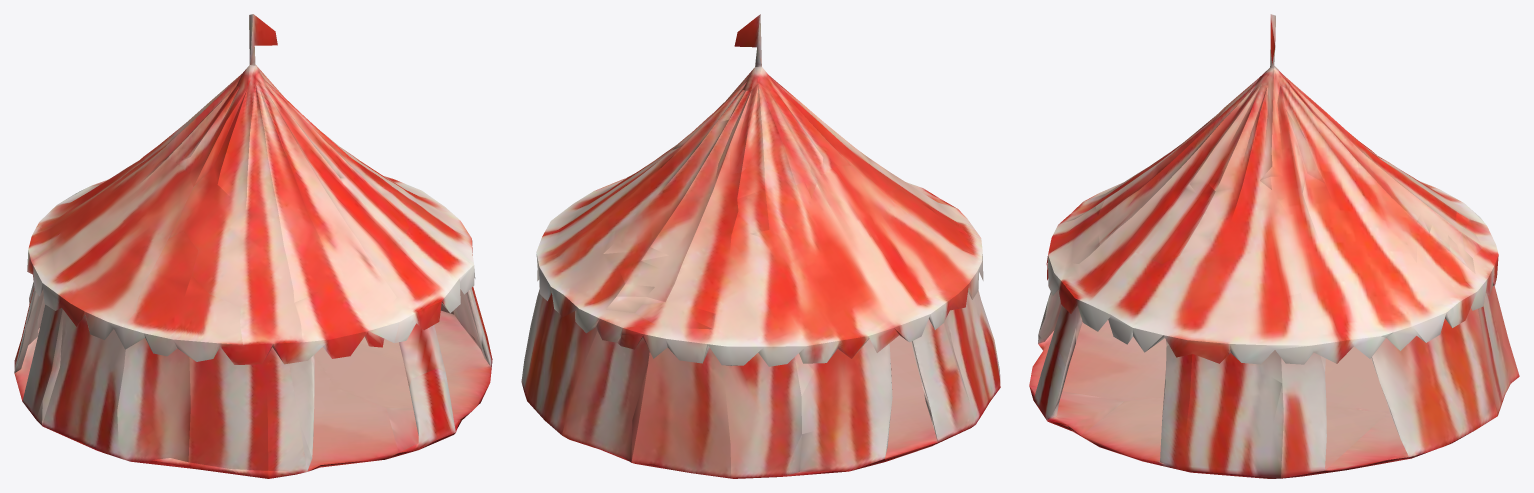
File: m2BigTopTentBg.glb
The picture shows the model from 3 angles, left to right: view 1: azimuth 30°, elevation 25°; view 2: azimuth 150°, elevation 25°; view 3: azimuth 270°, elevation 25°; orthographic projection.
Parts seen in each view (by area): view 1: model; view 2: model; view 3: model.
Part boxes in pixels (left/top/right/bottom): model: left=14, top=14, right=492, bottom=478; model: left=521, top=14, right=1000, bottom=478; model: left=1029, top=14, right=1519, bottom=478.
Bounding box in the file's own units: 1.89 × 1.54 × 1.88.
1 material, 1 textured.
